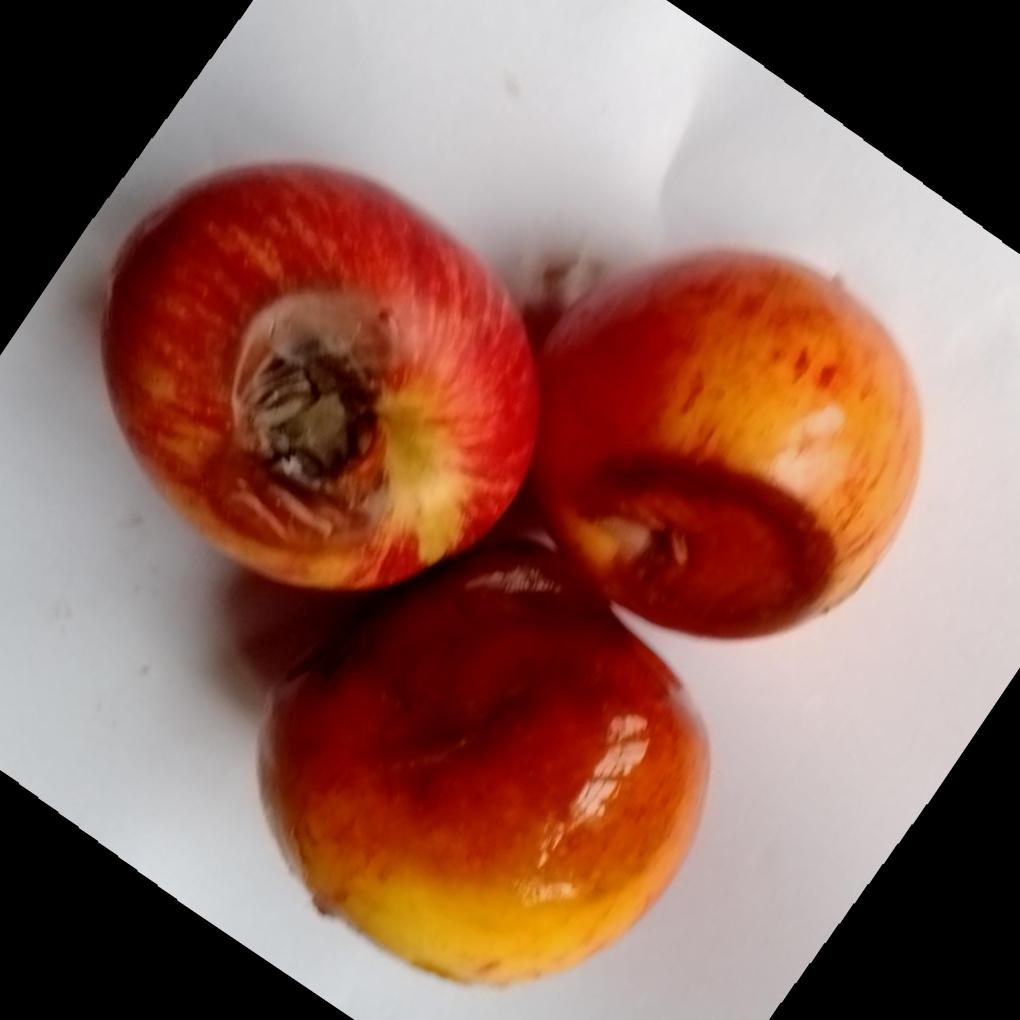FreshOrange: (99, 160, 923, 991)
